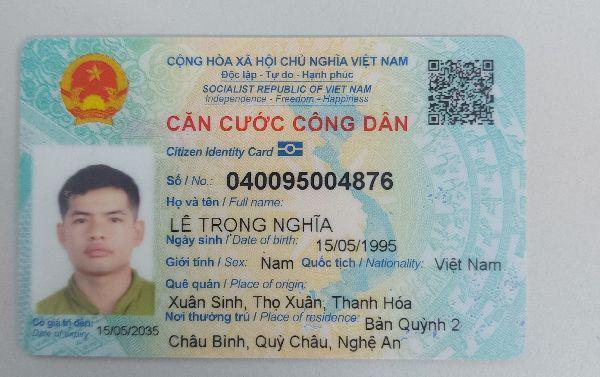ID: (224, 168, 395, 193)
birth: (314, 237, 399, 255)
name: (162, 211, 335, 237)
place: (164, 291, 421, 311)
residence: (166, 331, 409, 355), (360, 311, 462, 337)
